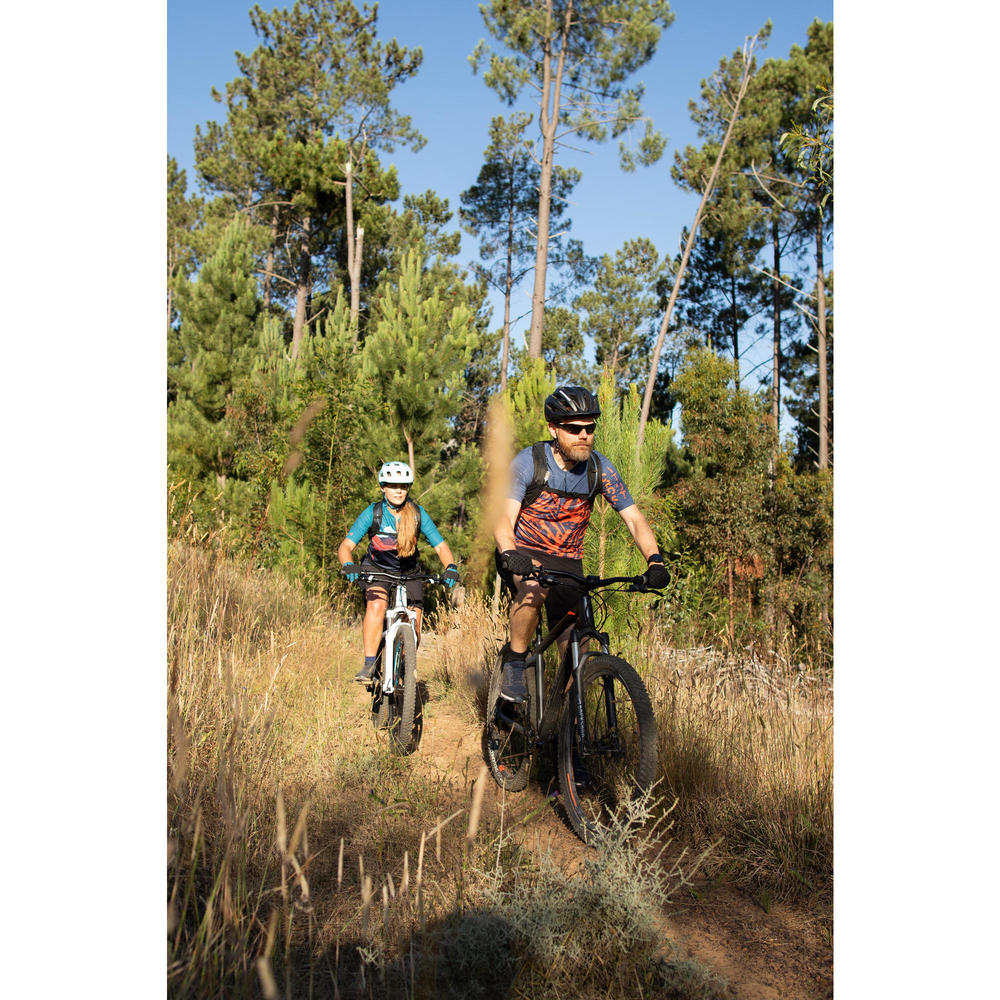MountainBike: (476, 535, 668, 863), (330, 548, 456, 763)
